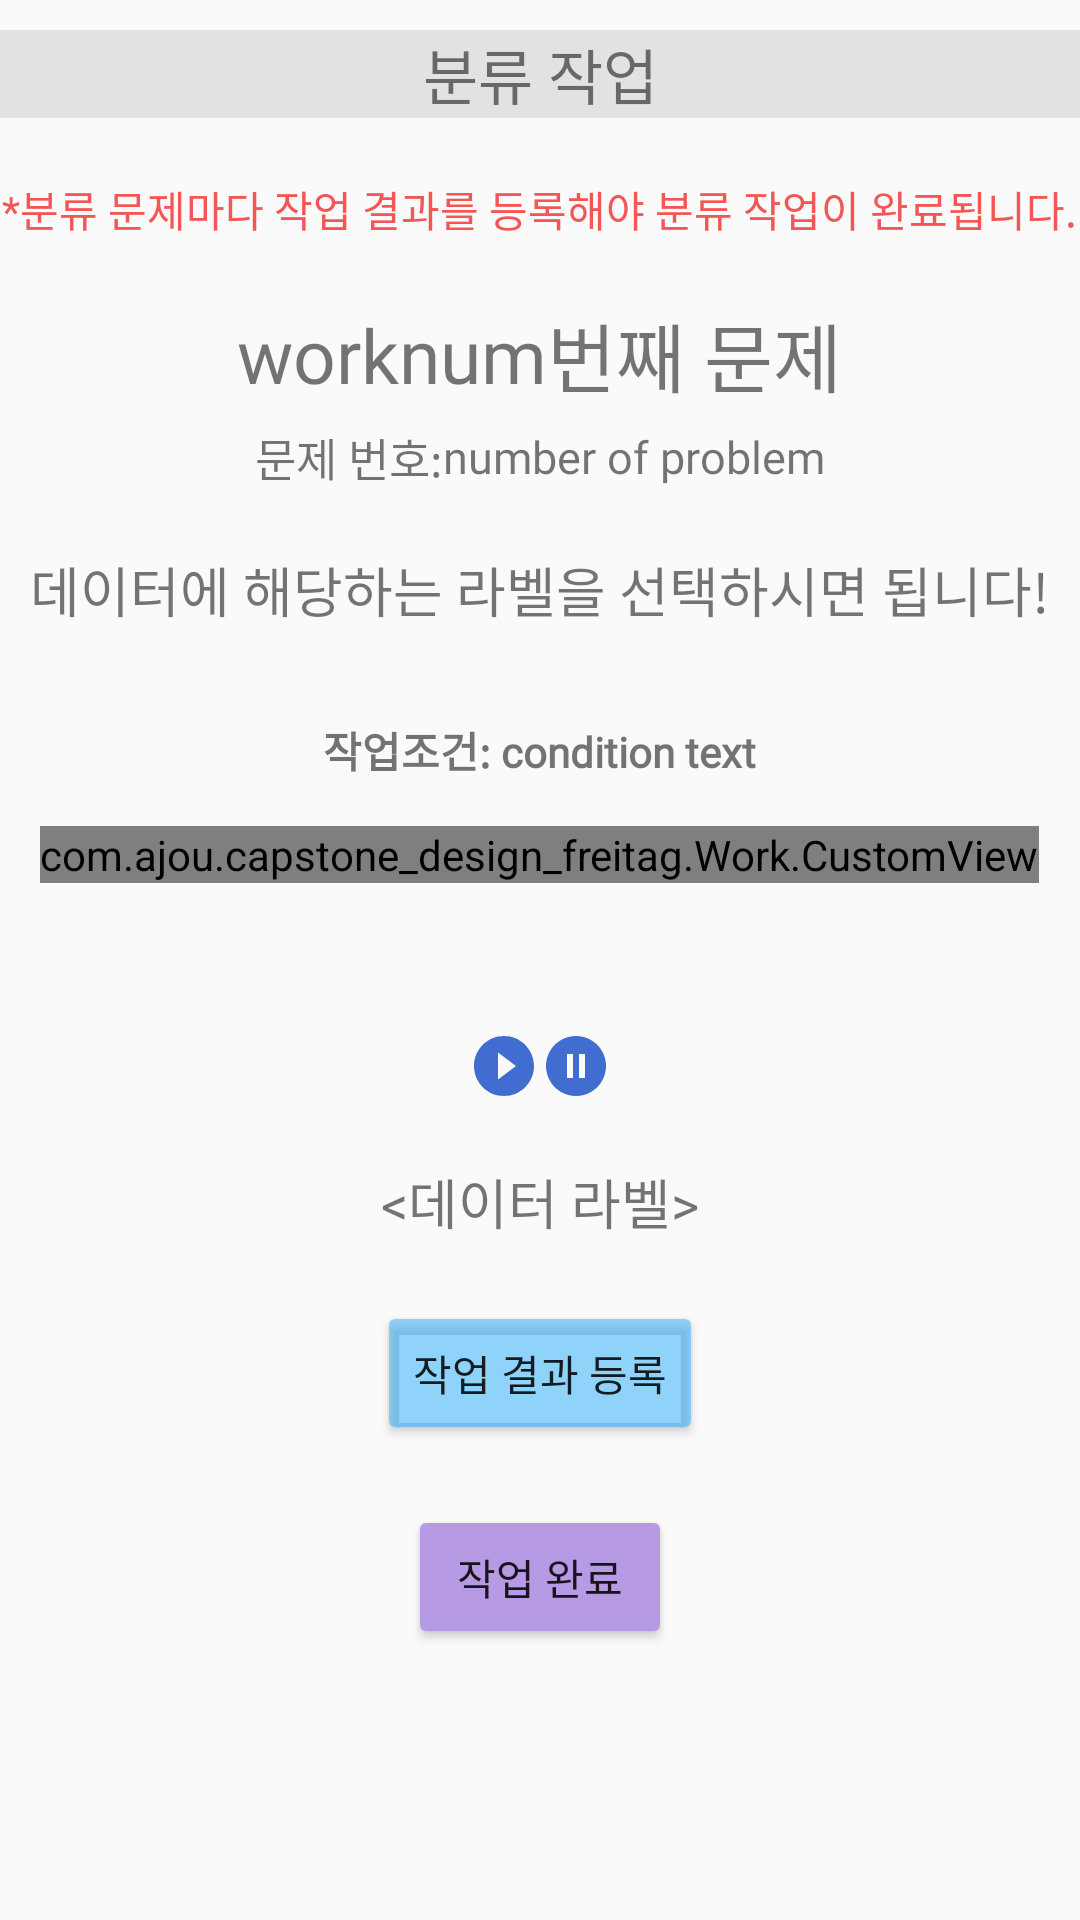

Where icons sit on this 1080px×1920px app screen, as [x1,y1,x2,y2]:
pause: [546,1036,606,1096]
play: [474,1036,534,1096]
